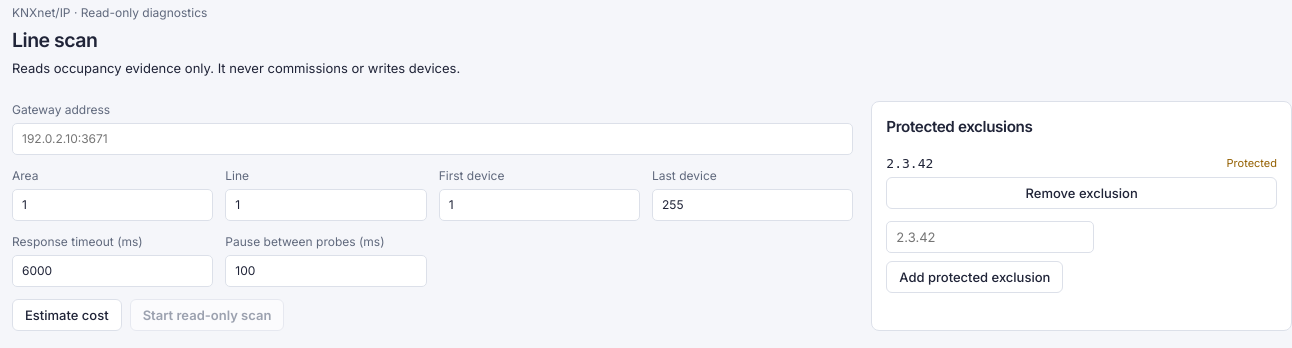
LineScanPanel › requires a deliberate confirmation before removing a configured exclusion
The image size is (1292, 348).
Click the button "Remove exclusion".
click(1082, 193)  # box left=886, top=177, right=1277, bottom=209
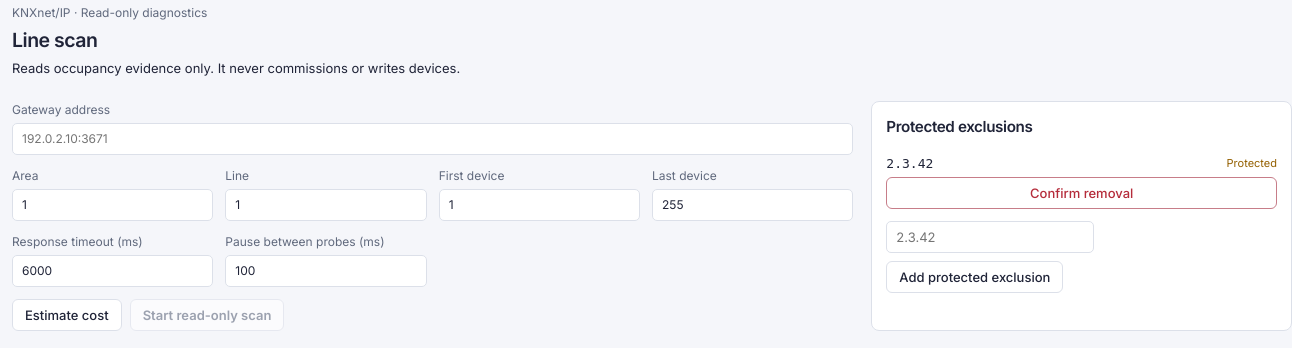
Check: the text "Confirm removal" is shown
Click the button "Confirm removal".
click(1082, 193)  # box left=886, top=177, right=1277, bottom=209
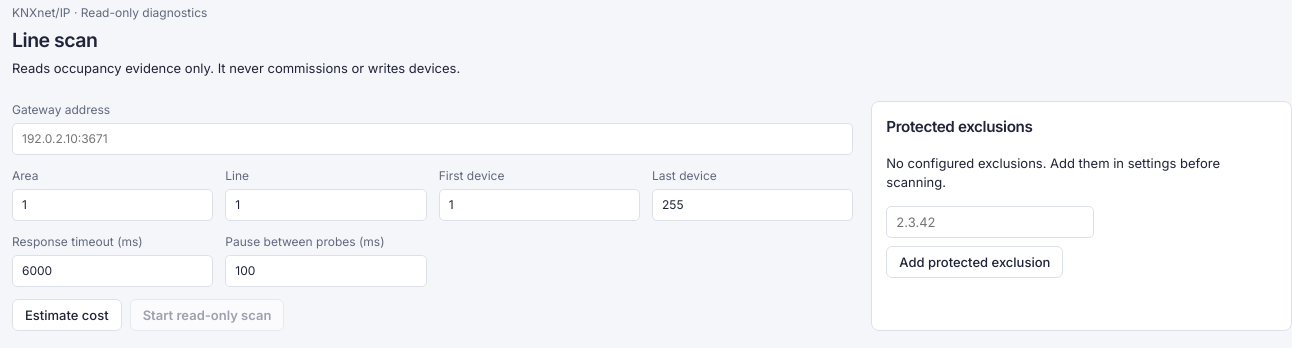
Check: the text "2.3.42" is gone
